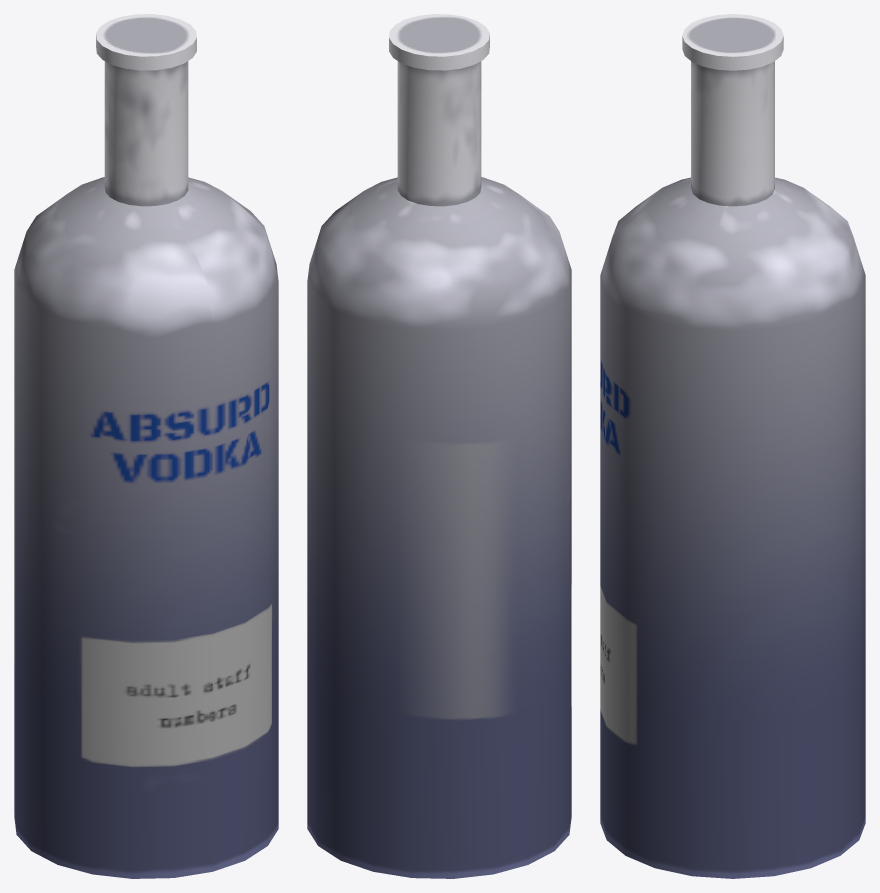
File: vodka(1).fbx
The picture shows the model from 3 angles, left to right: view 1: azimuth 30°, elevation 25°; view 2: azimuth 150°, elevation 25°; view 3: azimuth 270°, elevation 25°; orthographic projection.
Visible parts, largest first — view 1: vodka; view 2: vodka; view 3: vodka.
Boxes of the visible parts, x1,y1,x2,y2 form: vodka: [14, 14, 278, 878]; vodka: [307, 14, 571, 878]; vodka: [600, 14, 865, 878].
Bounding box in the file's own units: 9.11 × 29.81 × 9.11.
Materials: 1 (1 with a texture image).
